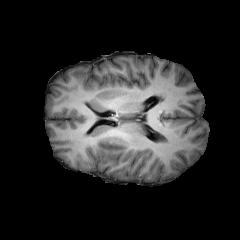glioma: (85, 134, 129, 167)
